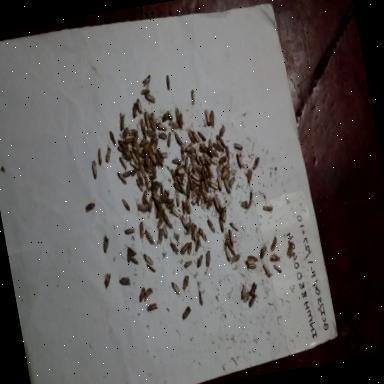pbw: (102, 145, 114, 166), (179, 273, 192, 292), (84, 197, 98, 214), (123, 242, 137, 259), (164, 130, 175, 151), (89, 159, 100, 180), (268, 235, 280, 254), (246, 293, 260, 309), (140, 73, 154, 89), (179, 304, 193, 320), (101, 234, 112, 254), (102, 272, 114, 290), (206, 217, 218, 235), (248, 280, 260, 298), (136, 284, 148, 302), (194, 252, 206, 270), (258, 242, 270, 260), (202, 106, 212, 127), (145, 300, 160, 314), (198, 223, 208, 244), (118, 111, 128, 132), (155, 227, 166, 246), (120, 195, 132, 212), (192, 238, 204, 255), (116, 169, 128, 186), (262, 260, 272, 280), (138, 220, 148, 240), (196, 288, 206, 308), (169, 240, 180, 258), (142, 285, 155, 300), (250, 155, 262, 171), (170, 280, 182, 296), (178, 239, 190, 255), (216, 122, 228, 138), (211, 194, 221, 213), (178, 144, 188, 163), (173, 190, 183, 209), (148, 149, 158, 168), (199, 178, 209, 197), (108, 130, 118, 149), (148, 113, 157, 134), (219, 204, 230, 221), (118, 275, 132, 288), (144, 91, 158, 104), (122, 224, 136, 237), (142, 251, 154, 266), (178, 214, 188, 232), (130, 101, 140, 119), (155, 150, 164, 170), (180, 198, 189, 218), (174, 130, 184, 148), (190, 154, 199, 174), (160, 188, 170, 206), (138, 162, 148, 180), (118, 136, 129, 152), (202, 152, 213, 168), (161, 222, 170, 241), (146, 195, 156, 212), (192, 229, 202, 246), (191, 127, 201, 144), (137, 135, 149, 149), (242, 288, 254, 302), (239, 197, 251, 211), (171, 156, 183, 170), (152, 189, 164, 203), (96, 146, 104, 167), (160, 108, 172, 122), (126, 254, 140, 266), (272, 264, 284, 278), (228, 252, 242, 264), (268, 253, 283, 264), (135, 97, 144, 115), (186, 240, 195, 258), (215, 174, 224, 192), (235, 152, 244, 170), (176, 112, 186, 128), (246, 190, 256, 206), (228, 220, 240, 233), (145, 262, 157, 275), (154, 119, 166, 132), (208, 178, 220, 191), (196, 128, 207, 142), (190, 184, 201, 198), (208, 110, 217, 127), (136, 168, 145, 185), (182, 155, 191, 172), (140, 117, 148, 136), (144, 110, 152, 129), (238, 284, 248, 299), (194, 191, 204, 206), (170, 205, 180, 220), (190, 88, 198, 106), (146, 127, 158, 139), (182, 258, 194, 270), (224, 244, 232, 262), (165, 74, 173, 92), (127, 125, 139, 137), (183, 142, 195, 154), (202, 174, 210, 192), (168, 120, 180, 132), (190, 222, 199, 238), (184, 180, 192, 197), (245, 168, 254, 183), (129, 160, 140, 172), (140, 86, 152, 97), (164, 112, 175, 124), (137, 201, 148, 213), (208, 154, 219, 166), (130, 134, 140, 147), (158, 182, 166, 198), (153, 196, 161, 212), (224, 178, 232, 194), (228, 242, 236, 258), (202, 162, 210, 178), (216, 194, 224, 210), (134, 148, 142, 164), (206, 161, 213, 179), (118, 156, 127, 170), (227, 228, 234, 246), (176, 174, 185, 188), (174, 106, 181, 124), (151, 138, 160, 152), (232, 141, 243, 152), (157, 130, 169, 140), (173, 181, 183, 193), (220, 167, 230, 179), (212, 142, 222, 154), (184, 218, 194, 230), (116, 144, 128, 154), (244, 258, 256, 268), (164, 212, 172, 227), (262, 204, 274, 214), (140, 188, 149, 201), (121, 126, 130, 139), (246, 262, 259, 271), (142, 152, 150, 166), (135, 176, 143, 190), (225, 145, 232, 161), (188, 128, 196, 142), (170, 168, 178, 182), (194, 148, 201, 164), (144, 164, 154, 175), (122, 150, 132, 161), (176, 166, 187, 176), (155, 216, 165, 227), (218, 136, 227, 148), (228, 175, 237, 187), (186, 197, 192, 215), (144, 173, 150, 190), (216, 162, 226, 172), (218, 154, 228, 164), (122, 168, 132, 178), (192, 176, 202, 186), (160, 150, 170, 160), (154, 211, 164, 221), (135, 142, 142, 156), (207, 138, 214, 152), (151, 110, 157, 126), (219, 218, 225, 234), (132, 149, 138, 165), (148, 136, 156, 148), (186, 162, 194, 174), (156, 148, 164, 160), (123, 136, 135, 144), (246, 254, 258, 262), (192, 173, 202, 182), (199, 144, 208, 154), (204, 194, 213, 204), (180, 182, 187, 194), (152, 164, 158, 178), (224, 234, 231, 246), (148, 173, 157, 182), (155, 179, 165, 187), (130, 168, 138, 178), (188, 146, 198, 154), (166, 196, 174, 205), (167, 202, 176, 210)
